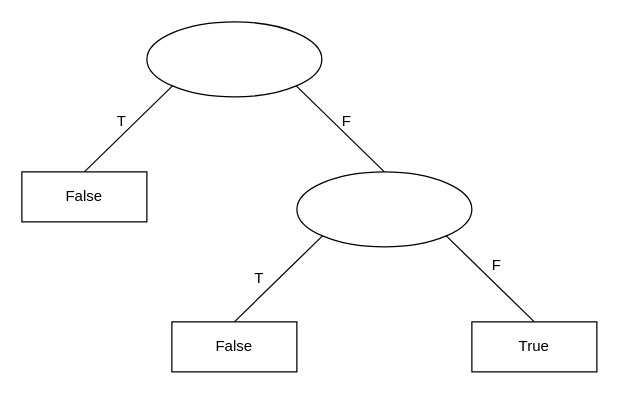
Image size: 619x394. Some labels were removed from this diagram. Here are the shapes that lost their labels. From the top down, the centre of each, then its label:
At pixel 234 59: "allergic_to == PEG".
At pixel 384 209: "pregnant == True".
